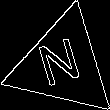N_S: (36, 34, 88, 95)
